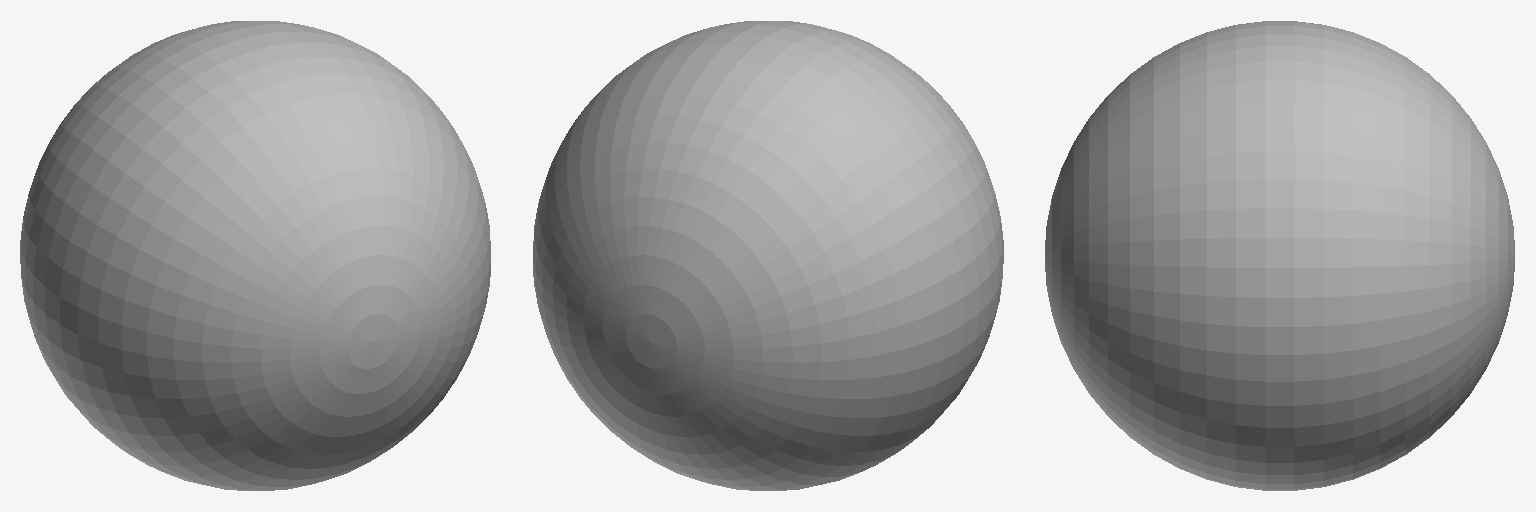
The robot description file, URDF, robot "balls":
<?xml version="1.0" encoding="utf-8"?>
<robot name="balls">
  <link name="balls">
    
    <inertial>
      <origin
       xyz="0 0 0"/> <!-- RoM (guess) -->
      <mass value="5" /> <!-- kg -->
      <inertia ixx="0.500000" ixy="0.000000" ixz="0.000000" iyy="0.500000" iyz="0.000000" izz="0.500000"/> <!-- inertia of model -->
    </inertial>
    
    <visual>
      <origin
        xyz="9.5 -0.5 99.5"/> <!-- change start position_visual_x y z -->
      <geometry>
        <mesh
          filename="meshes\balls.STL" scale="0.01 0.01 0.01"/> <!-- solidworks2017 기준으로 mm = m로 인식하는것 같음 (guess) scale -->
      </geometry>
      <material
        name="">
        <color
          rgba="0.75294 0.75294 0.75294 1" /> <!-- color R G B ? -->
      </material>
    </visual>
    
    <collision>
      <origin
        xyz="10 0 100"/> <!-- change start position_real x y z -->
      <geometry>
        <sphere radius="0.5" /> <!-- m (guess) -->
      </geometry>
    </collision>
    
  </link>
</robot>

--- What the picture shows (computed from the rendered views, not written in the file) ---
The picture shows the robot from 3 angles, left to right: view 1: azimuth 30°, elevation 25°; view 2: azimuth 150°, elevation 25°; view 3: azimuth 270°, elevation 25°; orthographic projection.
Model balls with 1 links and 0 joints (none), rooted at balls, posed all joints at 0.
Links seen in each view (by area): view 1: balls; view 2: balls; view 3: balls.
Boxes of the visible links, <box> form: balls: <box>20,21,490,490</box>; balls: <box>533,21,1003,490</box>; balls: <box>1045,21,1514,490</box>.
Bounding box of the posed robot: 0.997 × 1 × 0.9975 m (x, y, z).
1 mesh visuals loaded from 1 distinct referenced files (1 binary STL).
